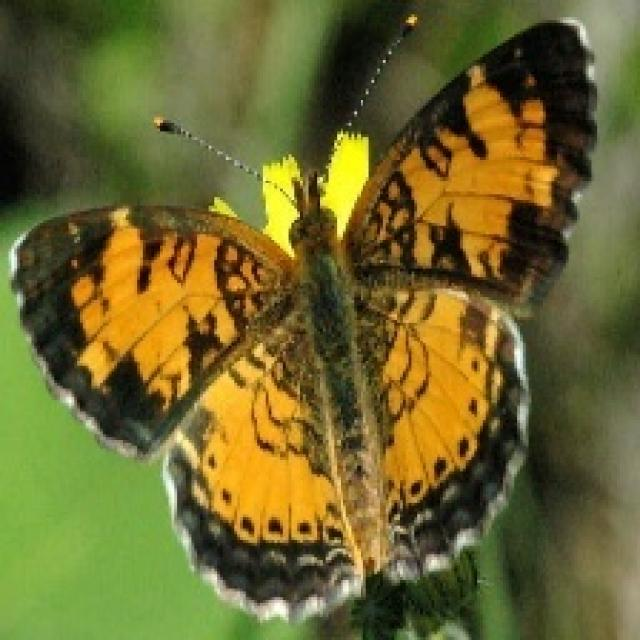butterfly: (6, 11, 597, 626)
